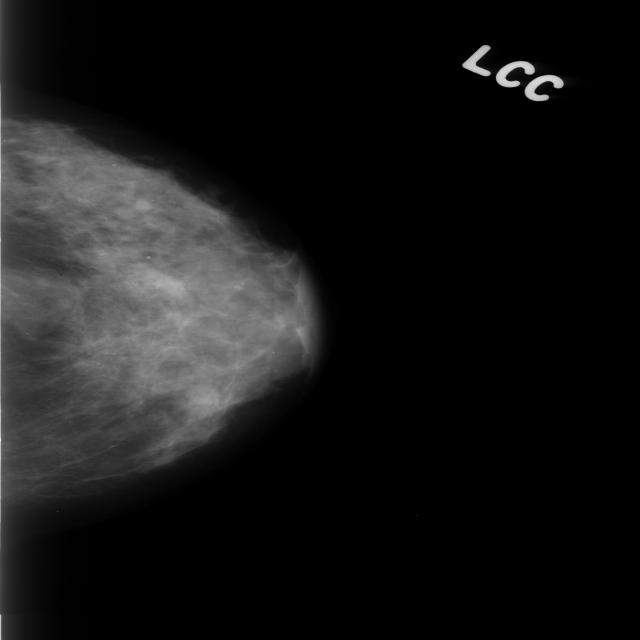cancer: (72, 159, 346, 527)
